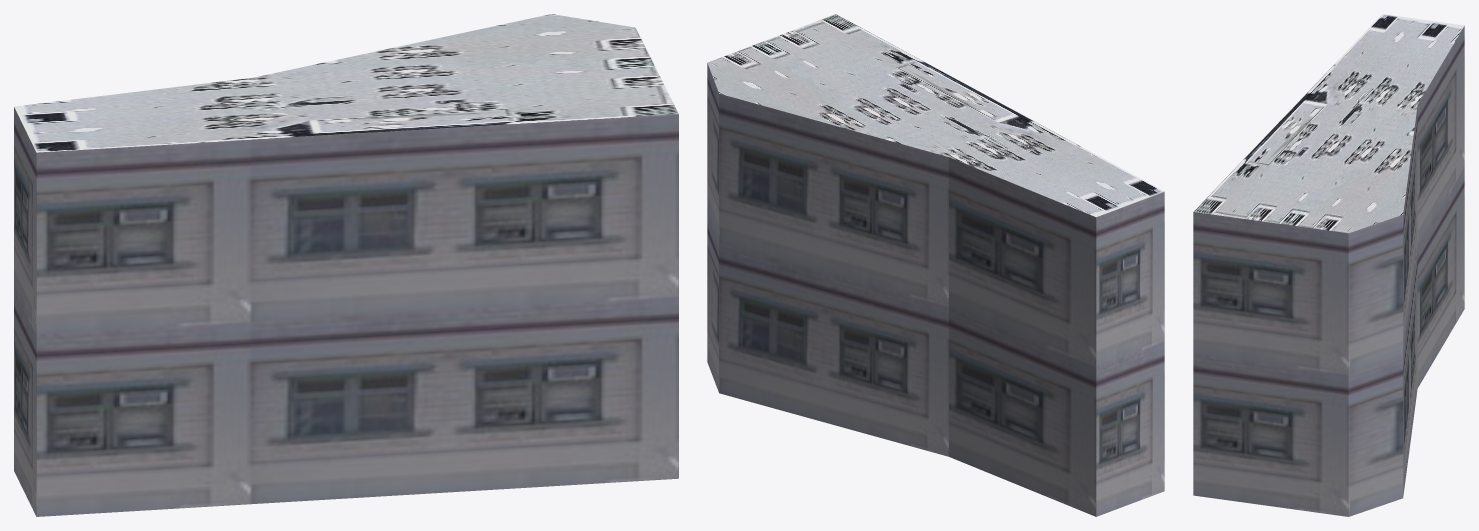
The model's file is ResTex__4642.fbx.
The picture shows the model from 3 angles, left to right: view 1: azimuth 30°, elevation 25°; view 2: azimuth 150°, elevation 25°; view 3: azimuth 270°, elevation 25°; orthographic projection. The views are drawn at different scales.
Visible parts, largest first — view 1: CityEngineMaterial_1_m, CityEngineMaterial_8_m; view 2: CityEngineMaterial_1_m, CityEngineMaterial_8_m; view 3: CityEngineMaterial_1_m, CityEngineMaterial_8_m.
Part boxes in pixels (x1=…): CityEngineMaterial_1_m: x1=14, y1=107, x2=678, y2=516; CityEngineMaterial_8_m: x1=14, y1=14, x2=678, y2=152; CityEngineMaterial_1_m: x1=707, y1=63, x2=1164, y2=516; CityEngineMaterial_8_m: x1=707, y1=14, x2=1163, y2=217; CityEngineMaterial_1_m: x1=1193, y1=26, x2=1464, y2=516; CityEngineMaterial_8_m: x1=1193, y1=14, x2=1464, y2=233.
Bounding box in the file's own units: 9.95 × 6 × 5.2.
Materials: 2 (2 with a texture image).
